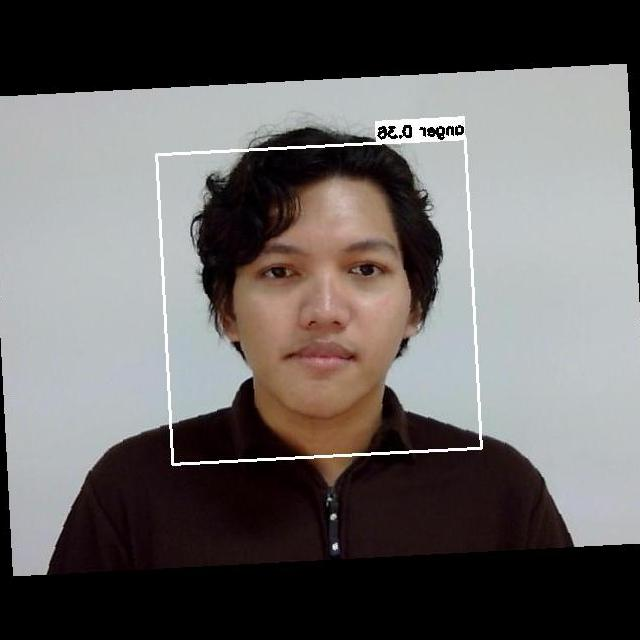Natural: (240, 220, 413, 401)
